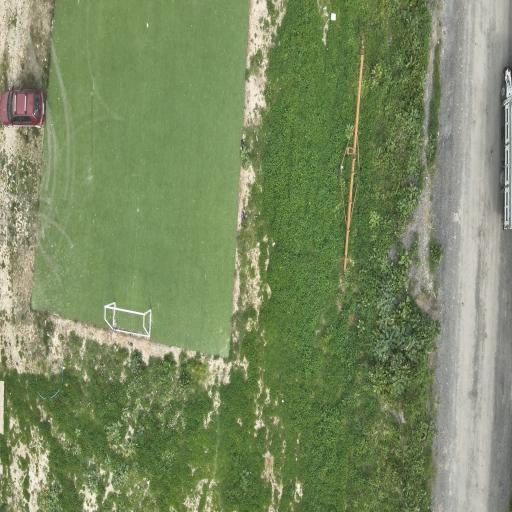car: (500, 67, 511, 229), (0, 91, 43, 126)
